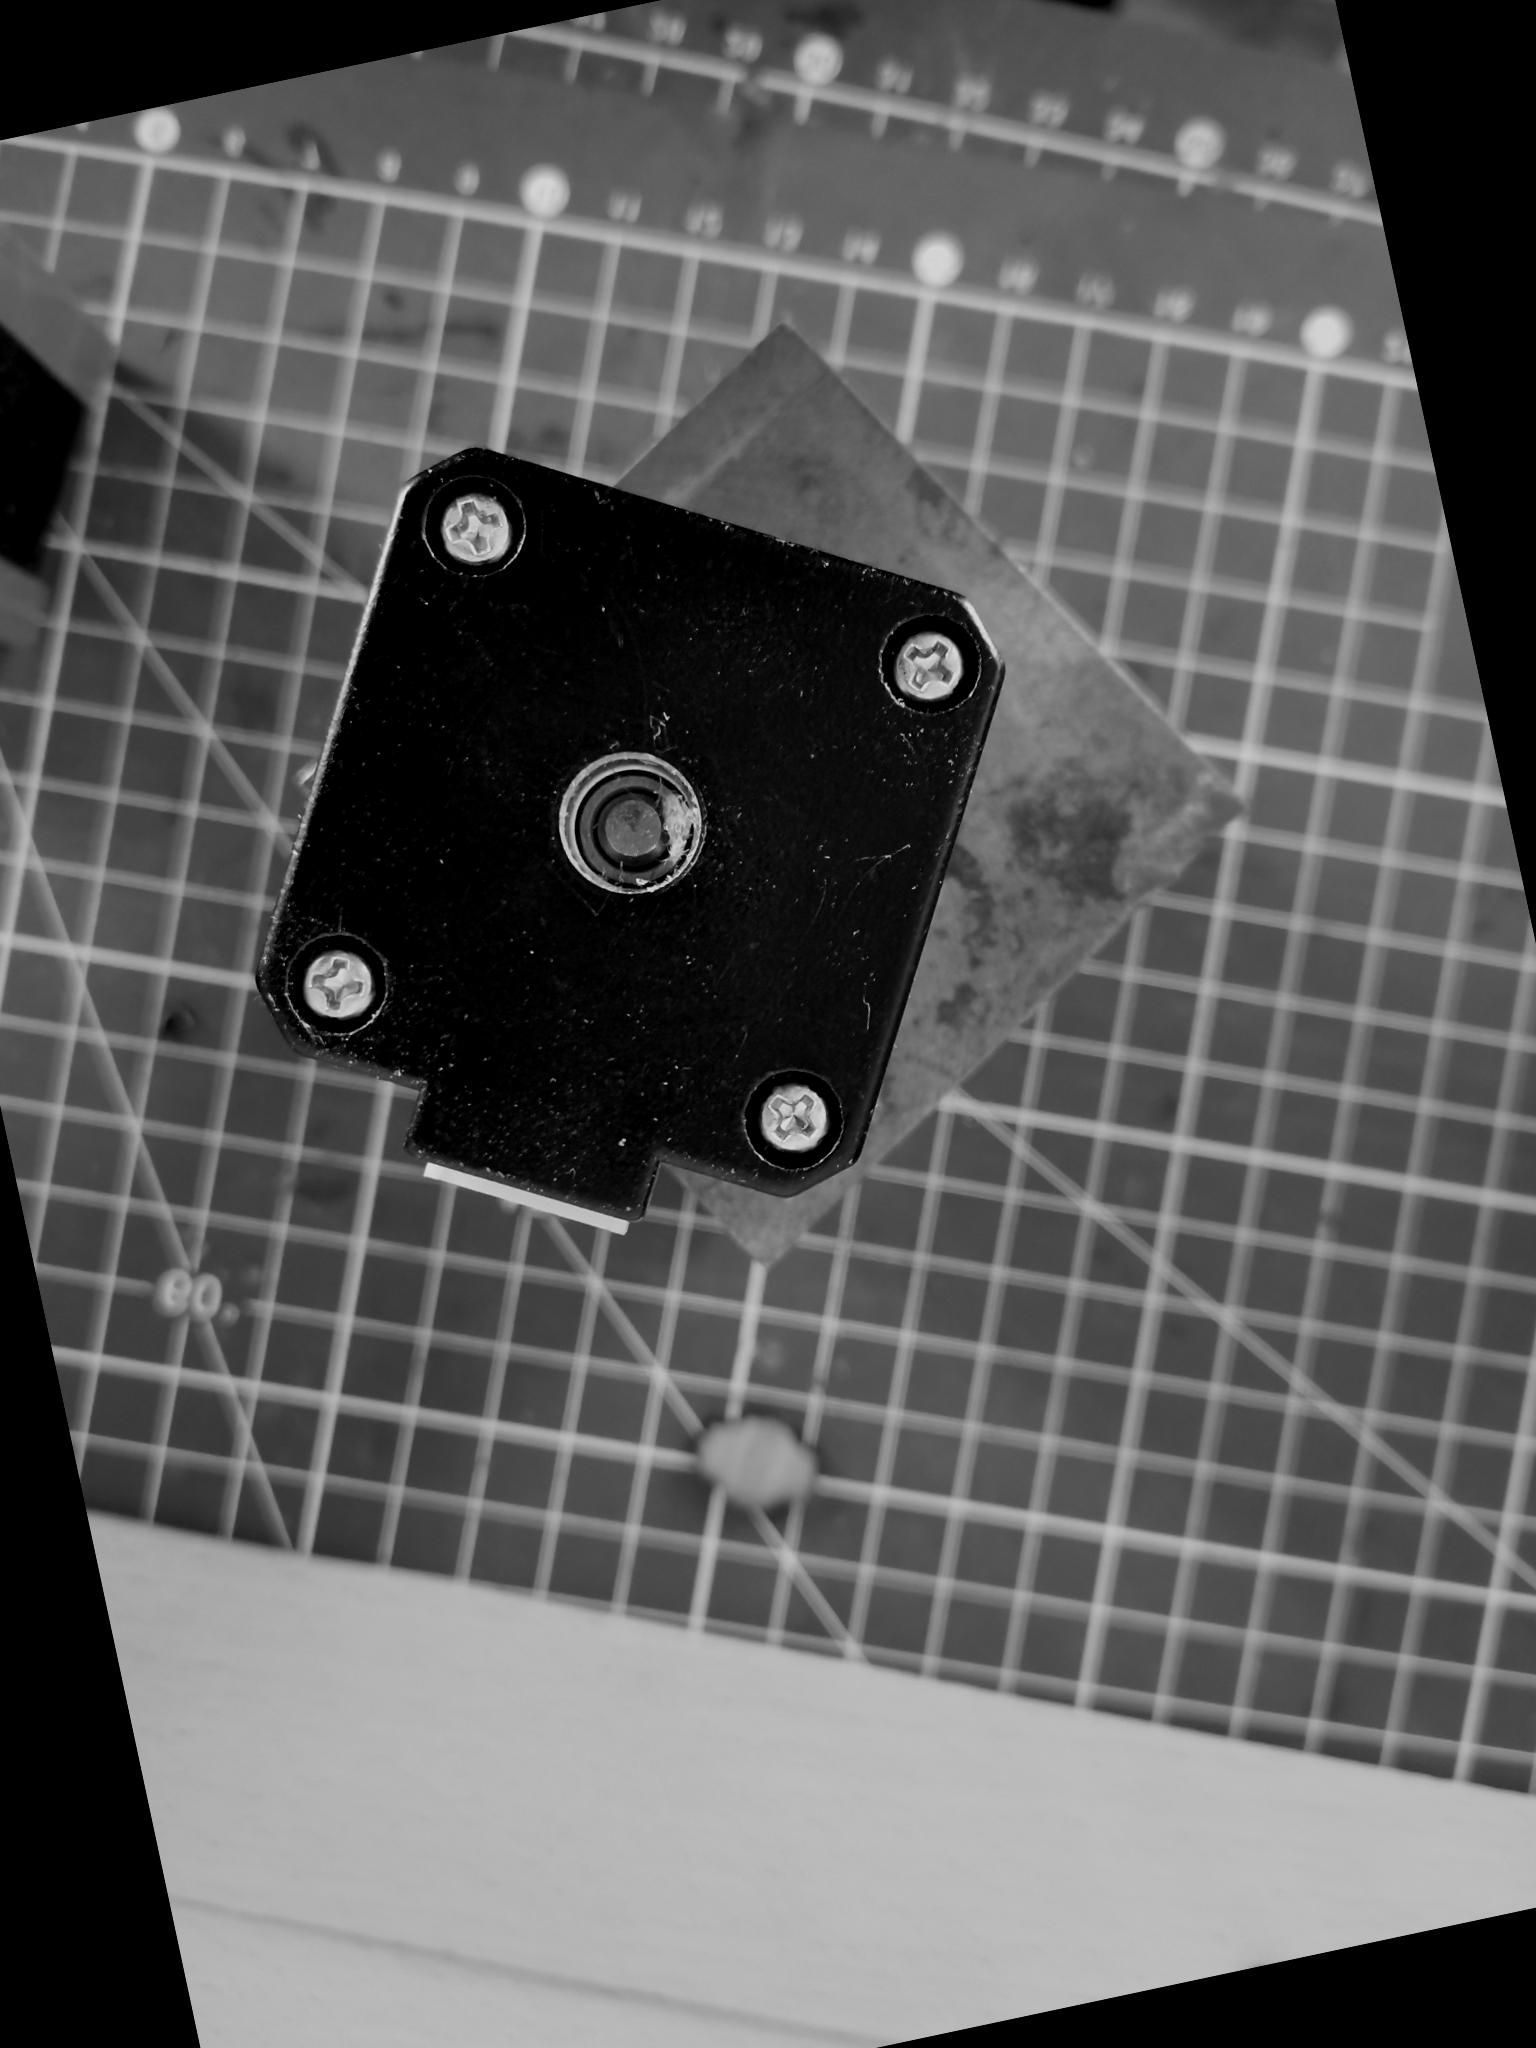screw: (403, 456, 541, 590), (866, 598, 995, 735), (276, 918, 402, 1050), (728, 1059, 854, 1174)
